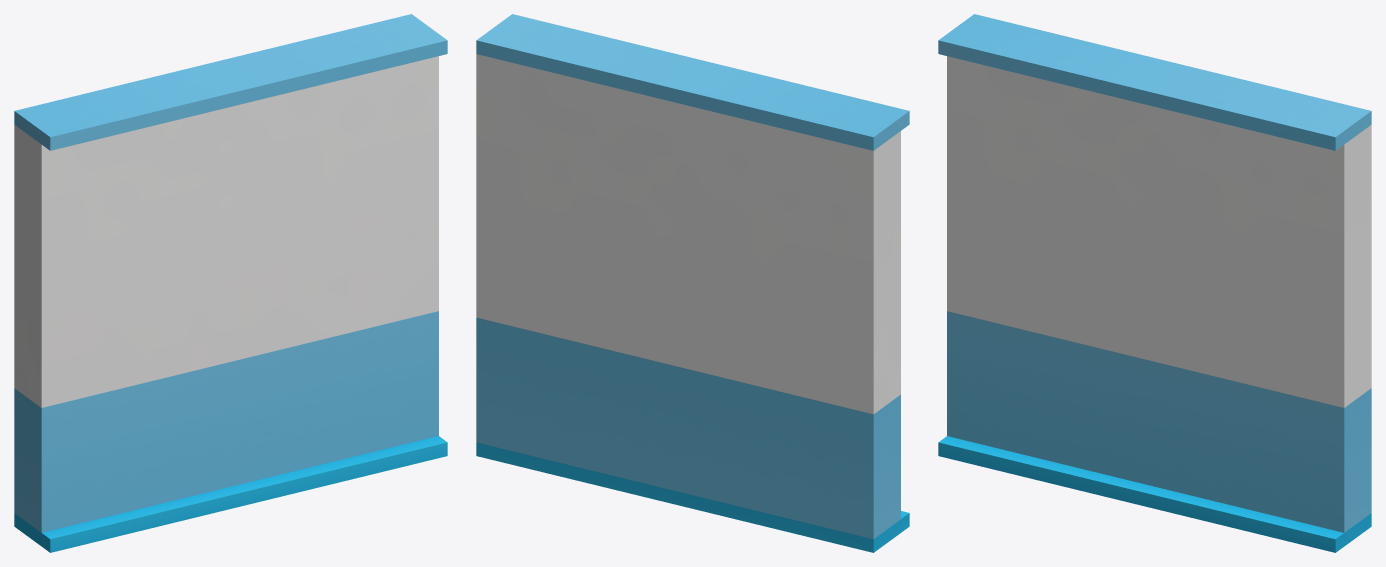
File: wall_1.dae
The picture shows the model from 3 angles, left to right: view 1: azimuth 30°, elevation 25°; view 2: azimuth 150°, elevation 25°; view 3: azimuth 330°, elevation 25°; orthographic projection.
Parts seen in each view (by area): view 1: wall_1; view 2: wall_1; view 3: wall_1.
Part boxes in pixels (x1=…): wall_1: x1=14, y1=14, x2=447, y2=552; wall_1: x1=476, y1=14, x2=909, y2=552; wall_1: x1=938, y1=14, x2=1371, y2=552.
Bounding box in the file's own units: 2 × 0.314 × 2.
